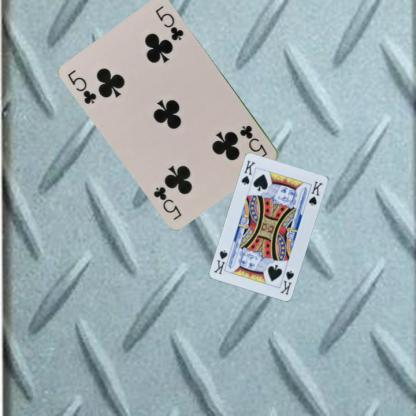5c: (66, 67, 98, 106), (238, 122, 270, 160)
Ks: (238, 158, 257, 187), (278, 268, 295, 296)
